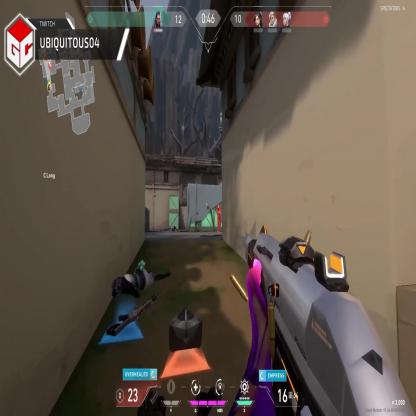enemy: (216, 206, 220, 235)
enemy_head: (217, 205, 220, 209)
